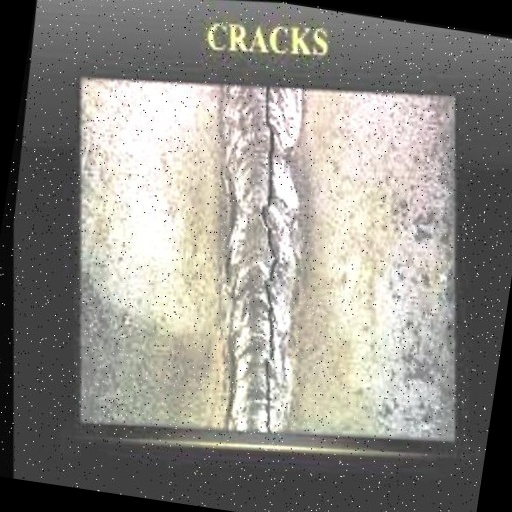crack: (195, 81, 340, 437)
